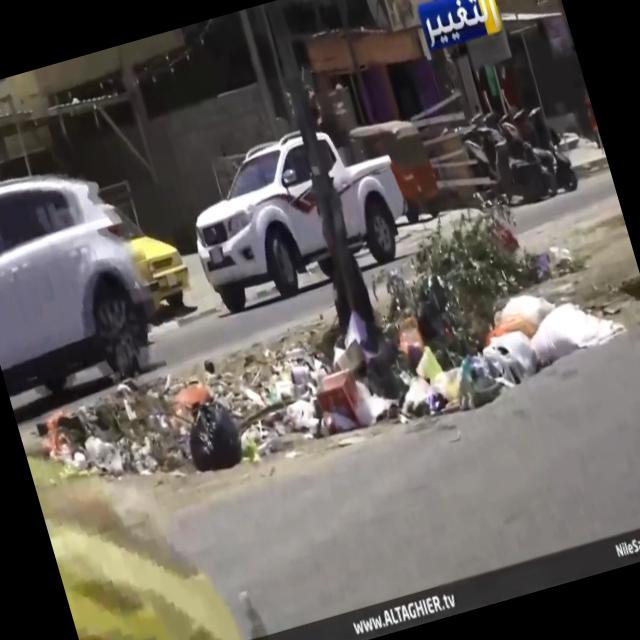high trash: (39, 210, 623, 476)
